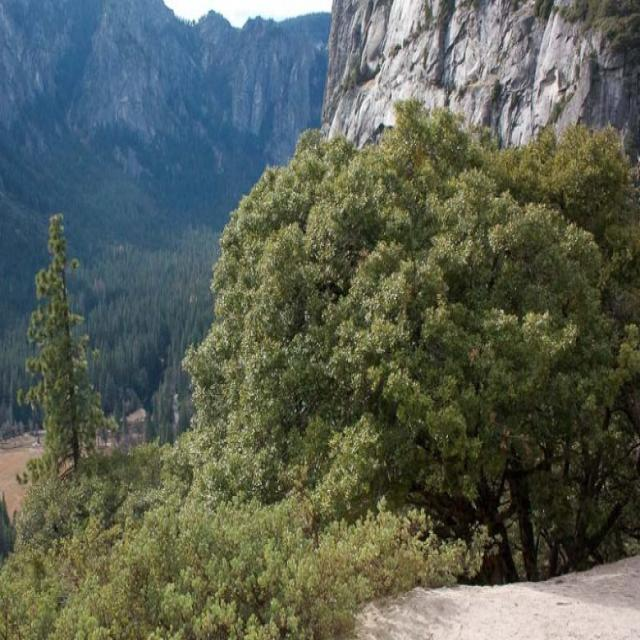Quercus chrysolepis: (207, 96, 640, 579)
